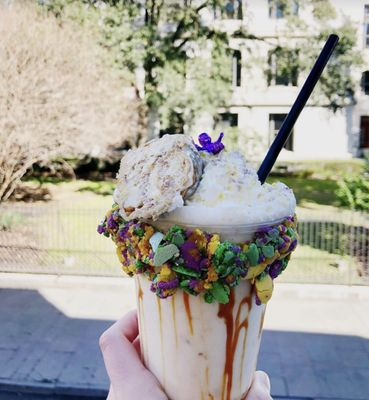soup: (92, 128, 300, 398), (117, 272, 271, 400)
